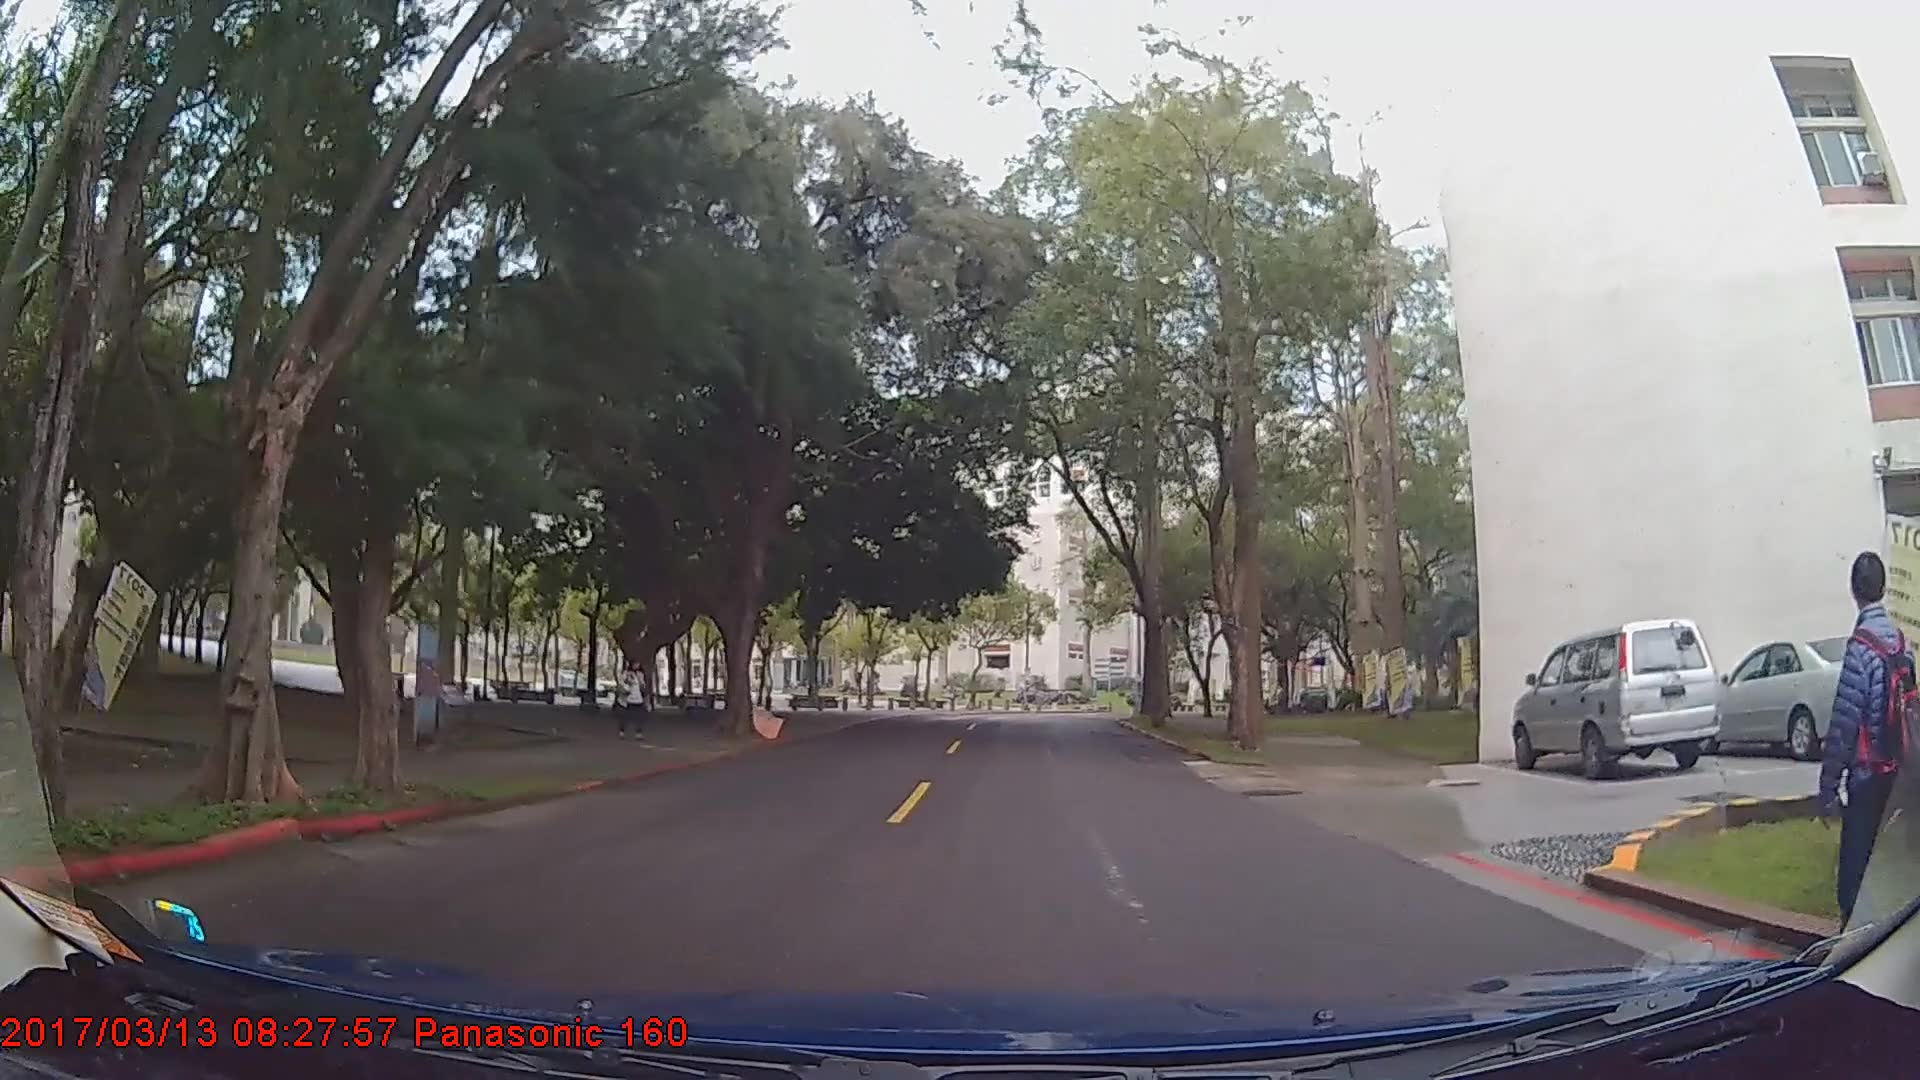pedestrian: (1817, 549, 1920, 997), (619, 652, 651, 738)
vehicle: (1513, 615, 1723, 778), (1705, 632, 1920, 759)
